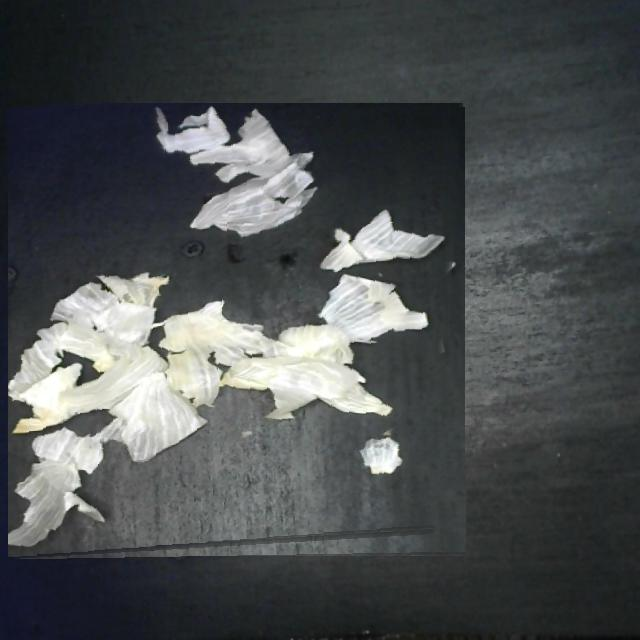biodegradable: (8, 103, 465, 561)
